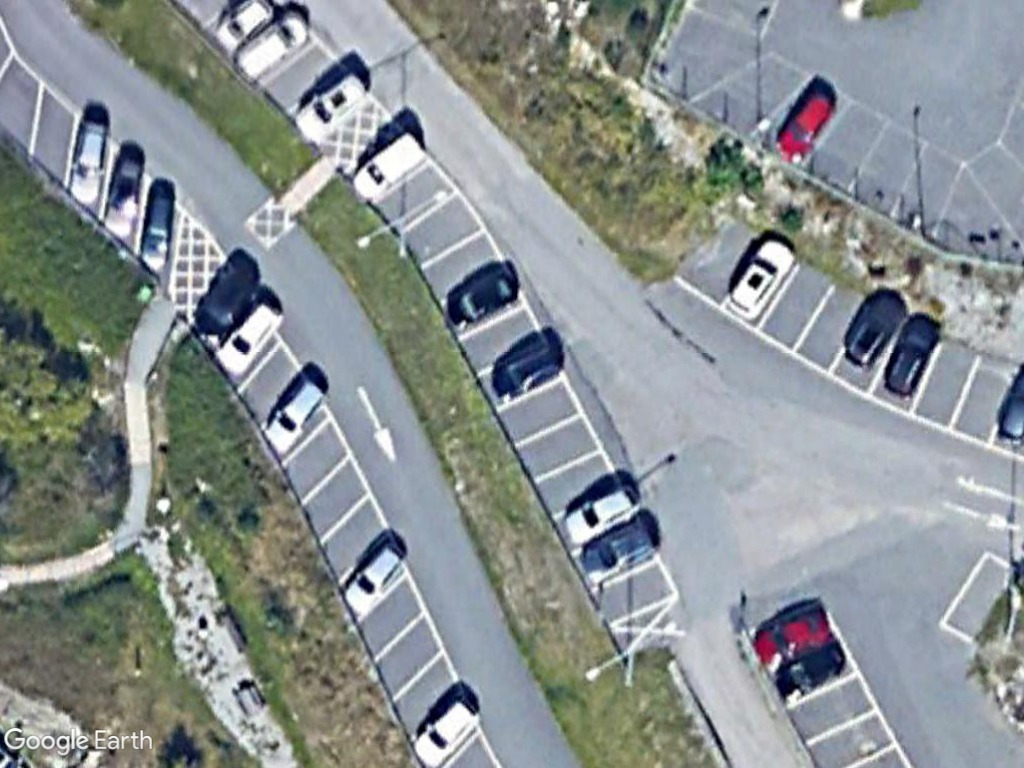car: (721, 237, 800, 325), (212, 296, 291, 382), (288, 70, 371, 146), (403, 693, 487, 768), (577, 517, 665, 588), (230, 10, 315, 83), (838, 288, 909, 373), (880, 312, 947, 401), (747, 603, 834, 670), (771, 634, 851, 706), (342, 537, 413, 616), (259, 371, 329, 451), (771, 84, 838, 167), (560, 480, 643, 547), (67, 110, 113, 213), (134, 184, 179, 277)
van: (348, 124, 430, 212)
